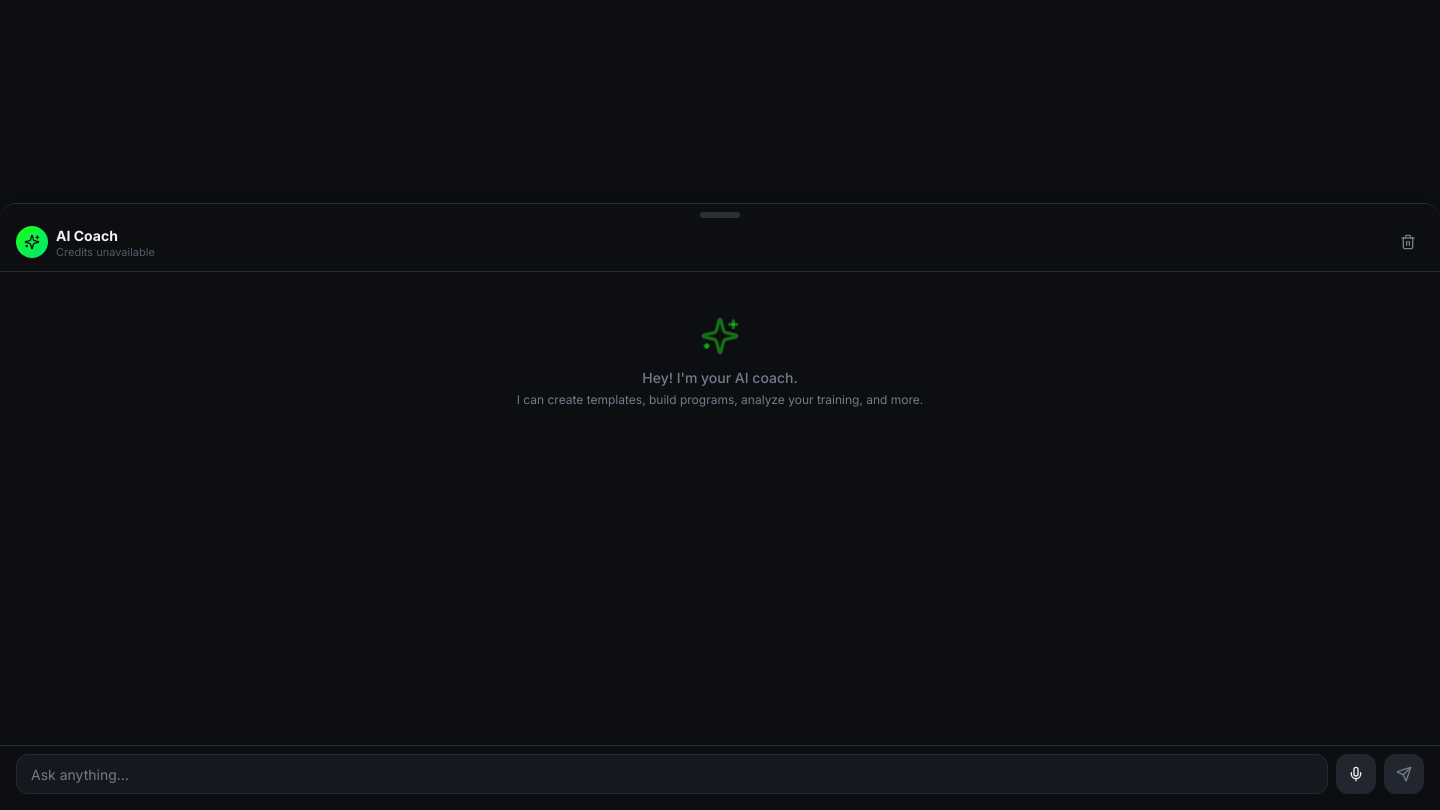
AI coach voice input › sends with Enter while listening
Click the button named "Start voice input": (1356, 774) [1336,754,1376,794]
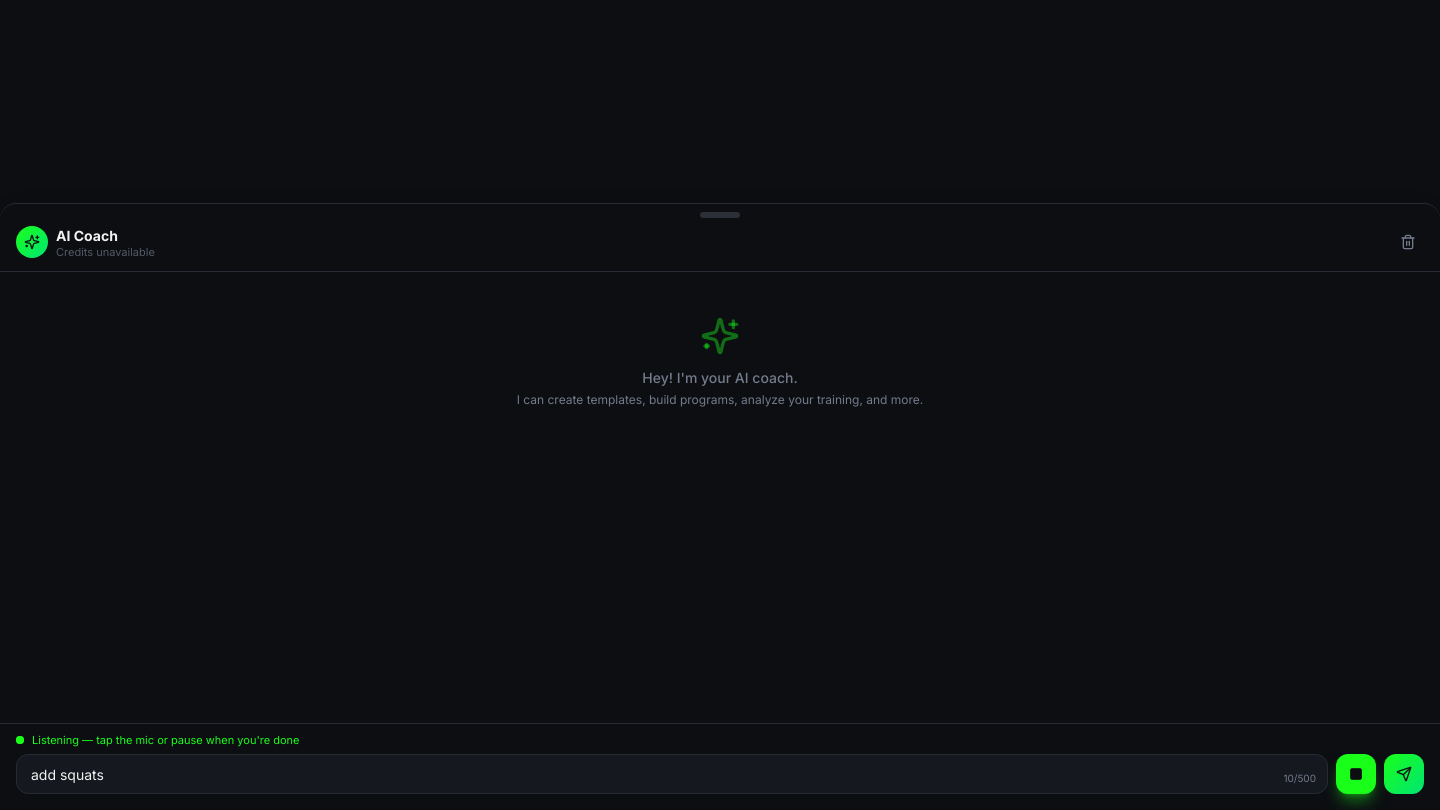
Press Enter in the text box, box [16,754,1328,794]
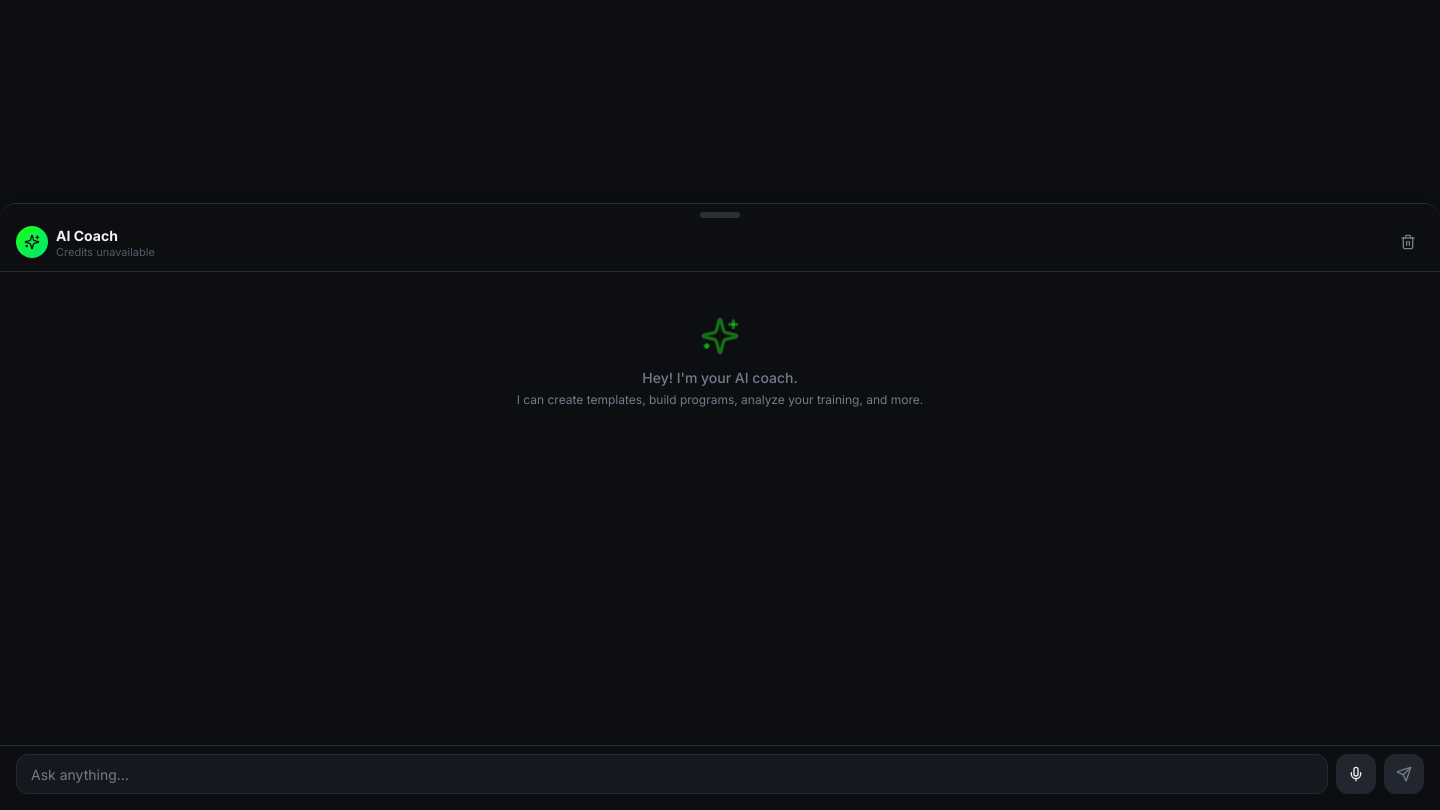
Expected: the text box is empty, [16,754,1328,794]
Expected: the button named "Start voice input" is shown, [1336,754,1376,794]
